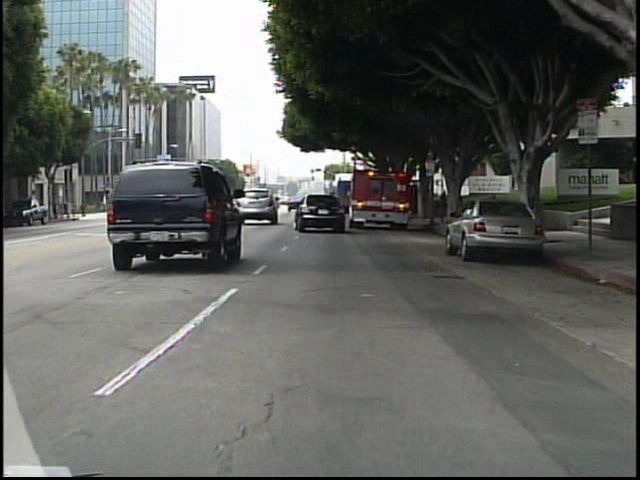person: (437, 187, 450, 220), (79, 199, 91, 221), (70, 198, 81, 222)
